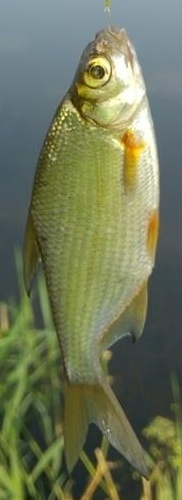Scardinius erythrophthalmus: (20, 20, 162, 480)
